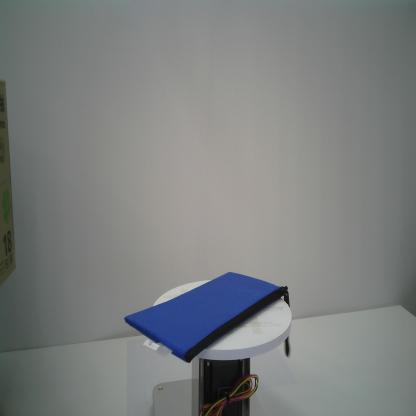Stationery: (122, 271, 292, 366)
